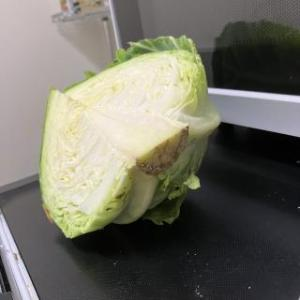cabbage: (38, 36, 222, 240)
